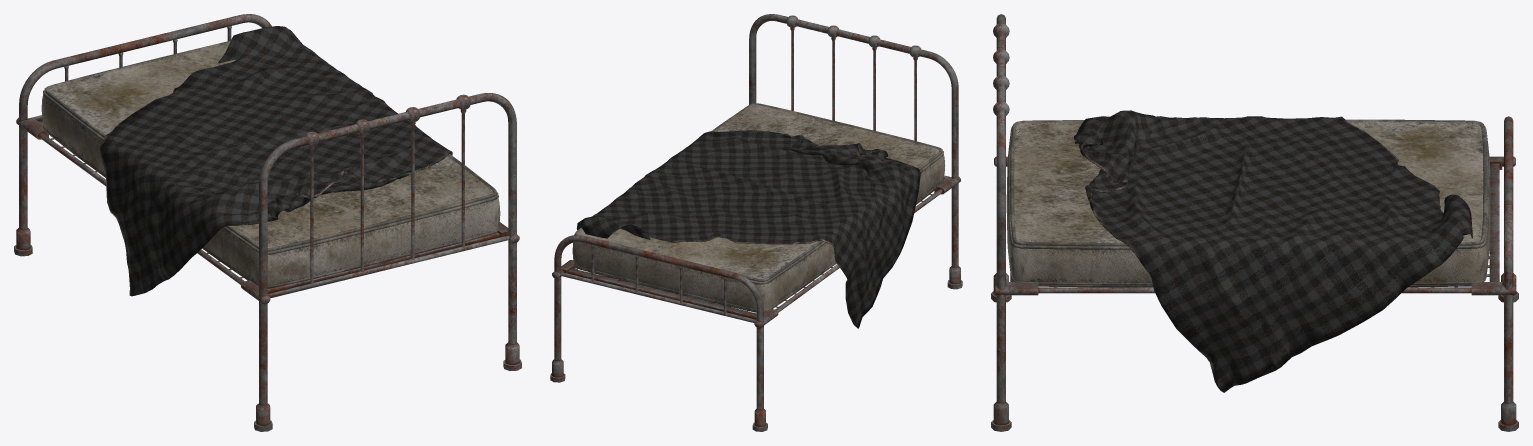
File: SM_Old_Bed.gltf
3 renders of one model, left to right at view 1: azimuth 30°, elevation 25°; view 2: azimuth 150°, elevation 25°; view 3: azimuth 270°, elevation 25°, orthographic. The views are drawn at different scales.
Visible parts, largest first — view 1: SM_Old_Bed; view 2: SM_Old_Bed; view 3: SM_Old_Bed.
Part boxes in pixels (x1=…): SM_Old_Bed: x1=14, y1=14, x2=521, y2=431; SM_Old_Bed: x1=550, y1=14, x2=962, y2=431; SM_Old_Bed: x1=991, y1=14, x2=1518, y2=431.
Bounding box in the file's own units: 1.33 × 1.3 × 2.08.
Materials: 3 (3 with a texture image).
